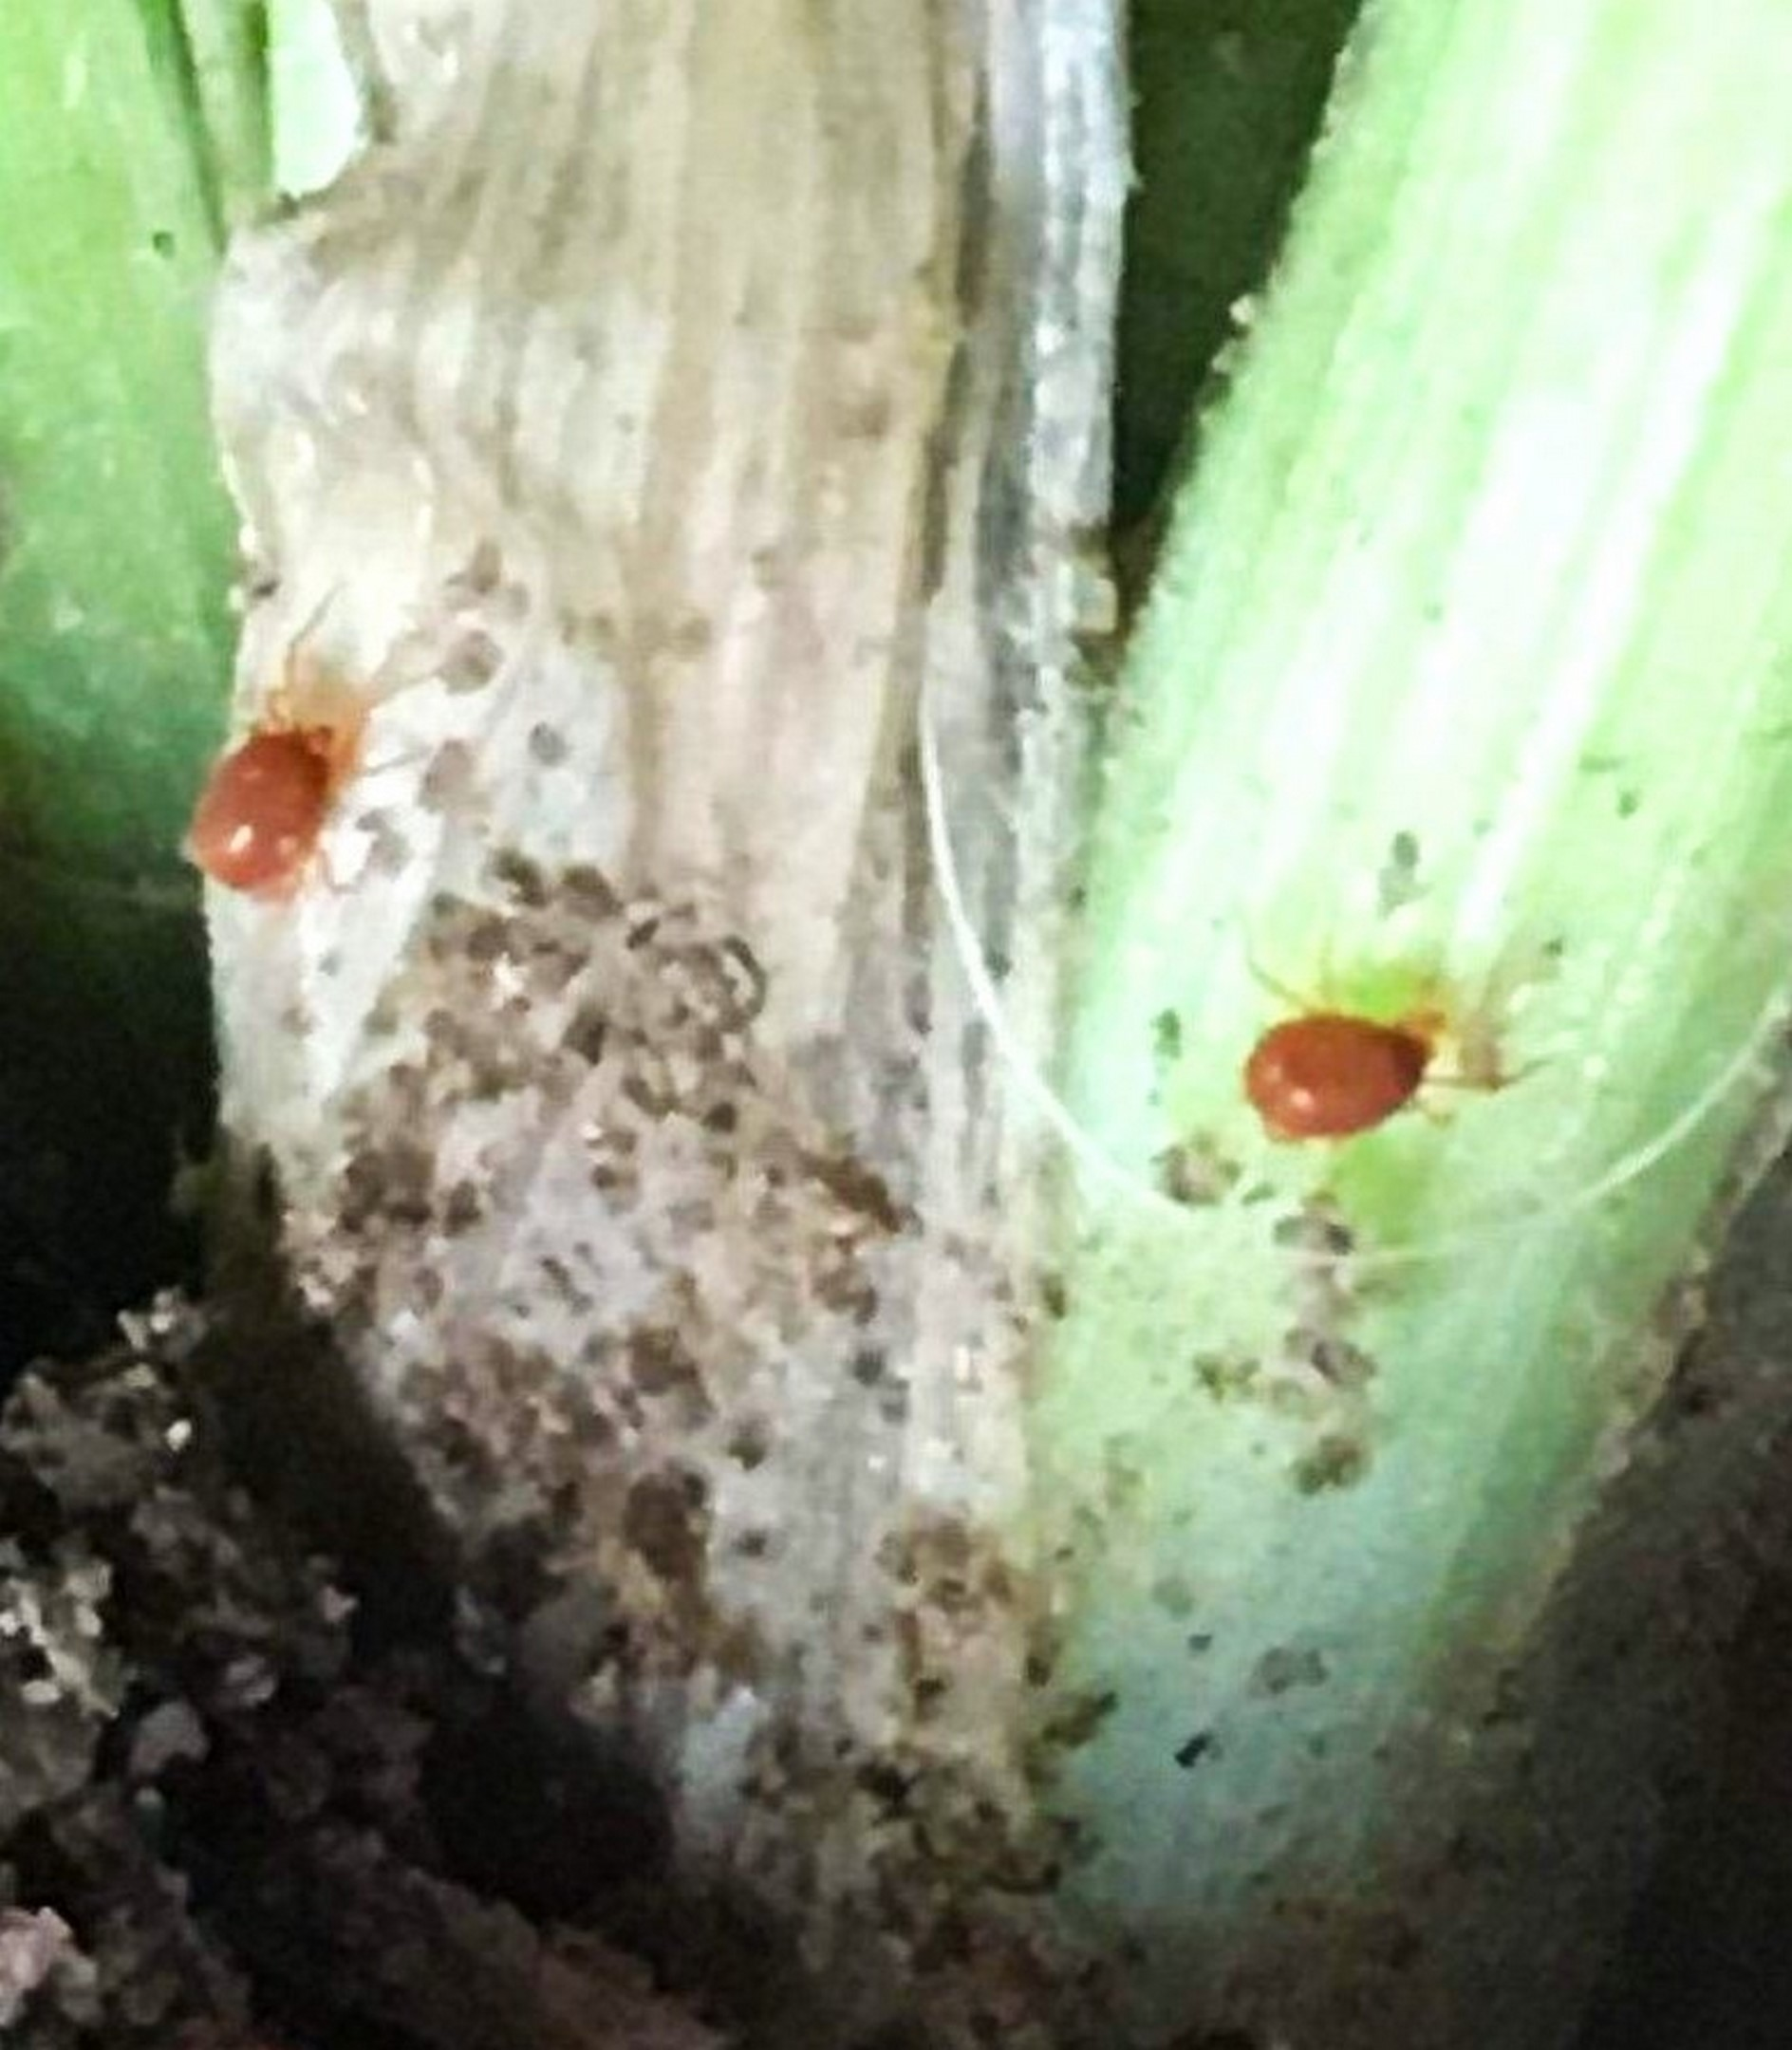Wheat Red Spider: (132, 565, 455, 943), (1177, 901, 1553, 1166)
